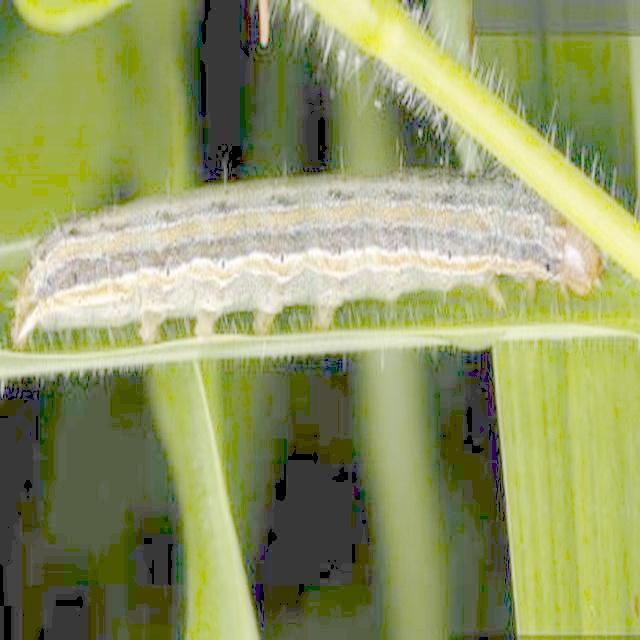gusano_cogollero: (2, 154, 610, 356)
